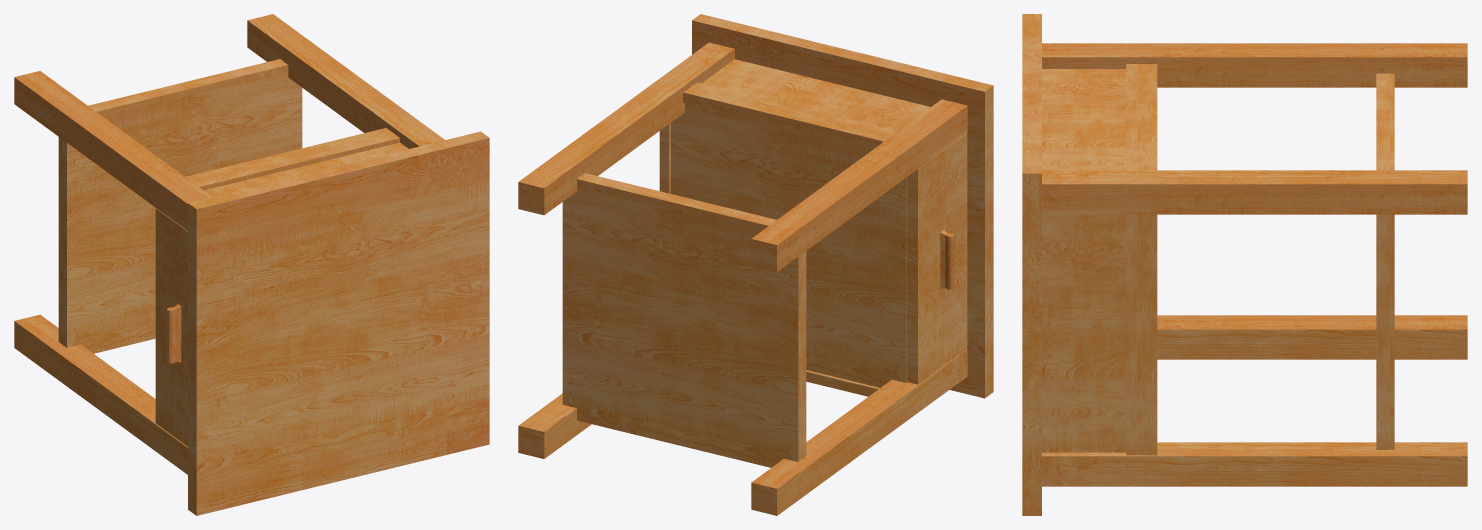
Rendered from Bedside table.obj.
3 views of the same model, side by side, from view 1: azimuth 30°, elevation 25°; view 2: azimuth 150°, elevation 25°; view 3: azimuth 270°, elevation 25° (orthographic). The views are drawn at different scales.
Visible parts, largest first — view 1: Cube; view 2: Cube; view 3: Cube.
Boxes of the visible parts, bbox=[...] form: Cube: bbox=[14, 14, 489, 515]; Cube: bbox=[518, 14, 993, 515]; Cube: bbox=[1022, 14, 1467, 515].
Bounding box in the file's own units: 0.6 × 0.6 × 0.7073.
